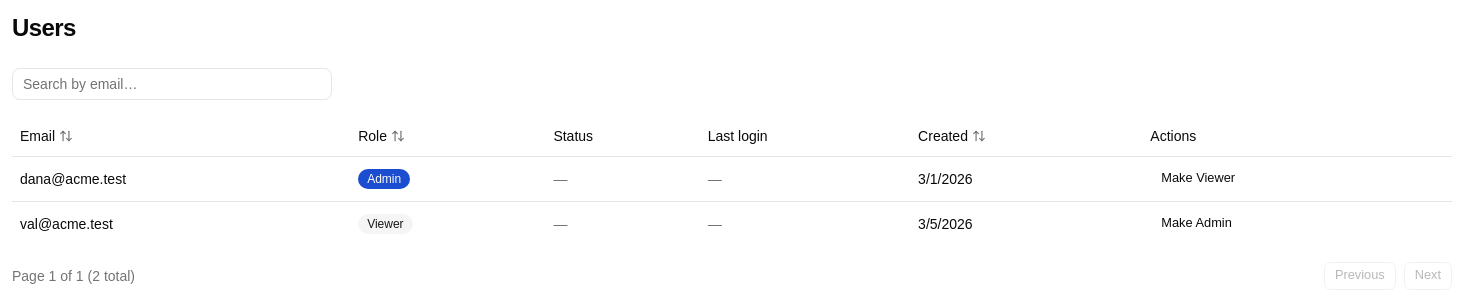
Test: client UsersPage › AC: search narrows by email
Expected: the text "dana@acme.test" is shown, [12,156,350,201]
Type "val" into the field labelled "Search by email…" at (172, 84), box [12,68,332,100]
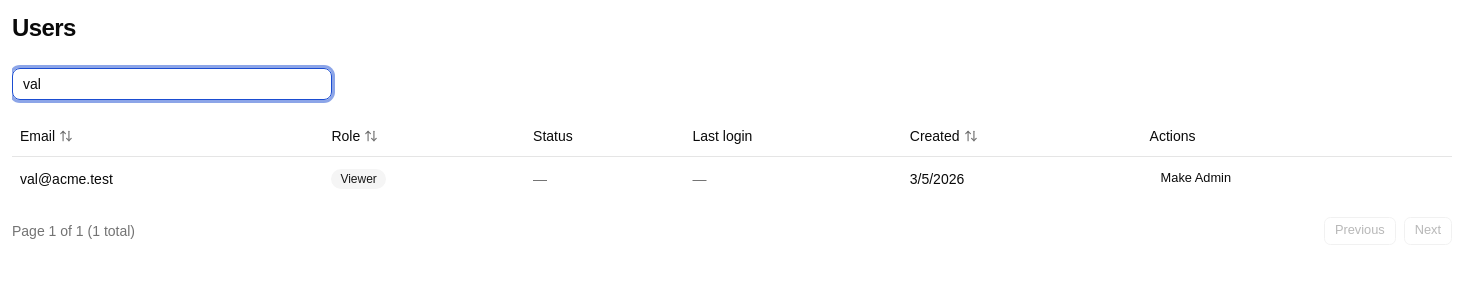
Expected: the text "val@acme.test" is shown, [12,156,323,200]
Expected: the text "dana@acme.test" is gone
